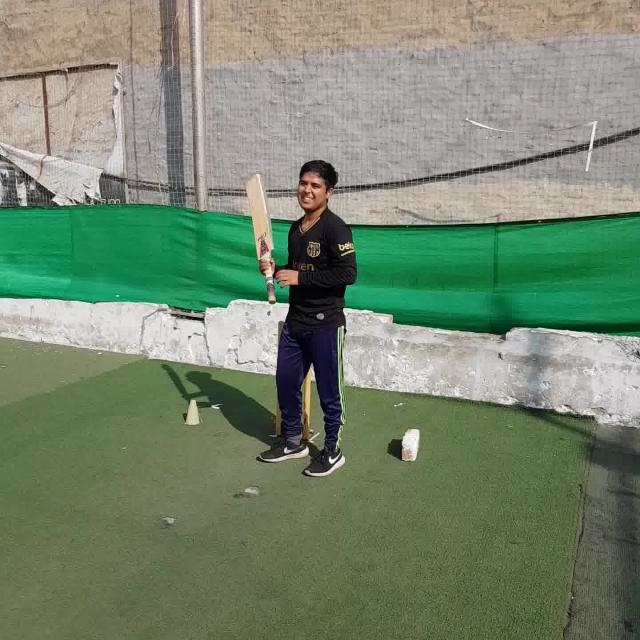bat: (246, 173, 276, 303)
